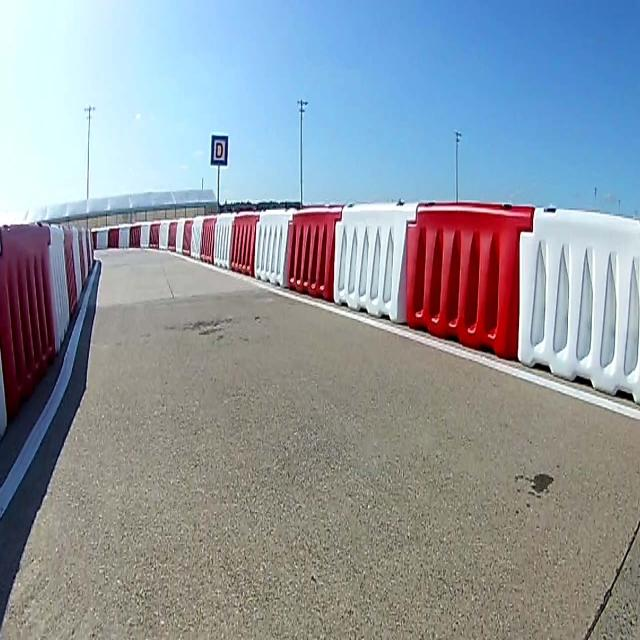durak: (211, 135, 228, 165)
